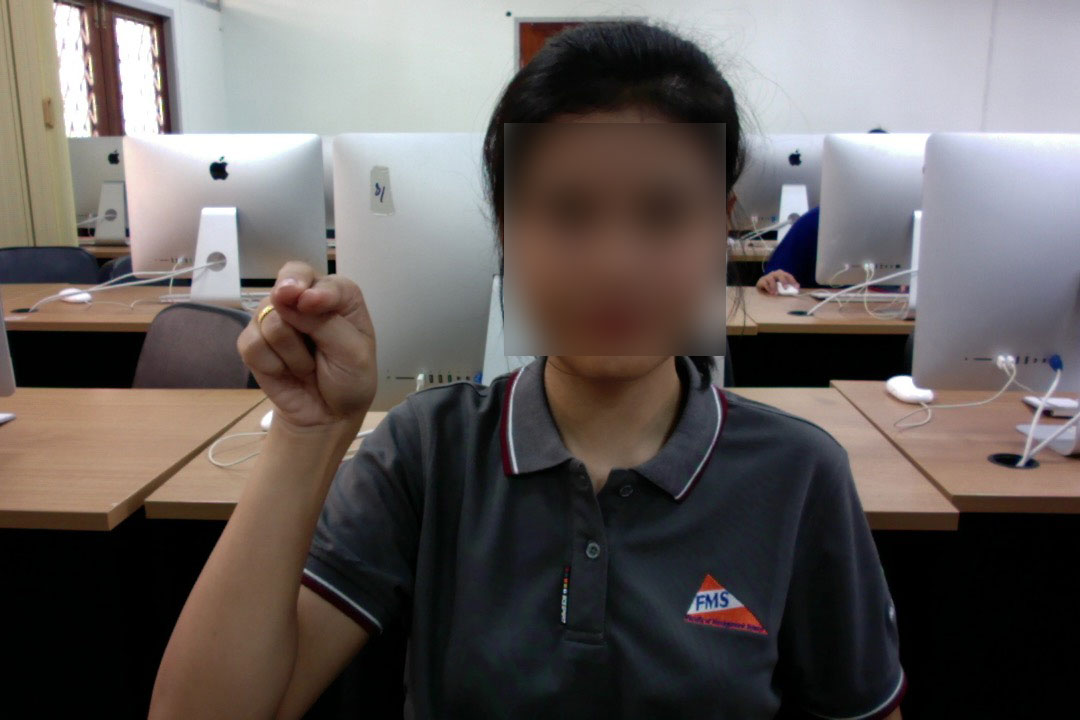nor: (231, 253, 386, 443)
